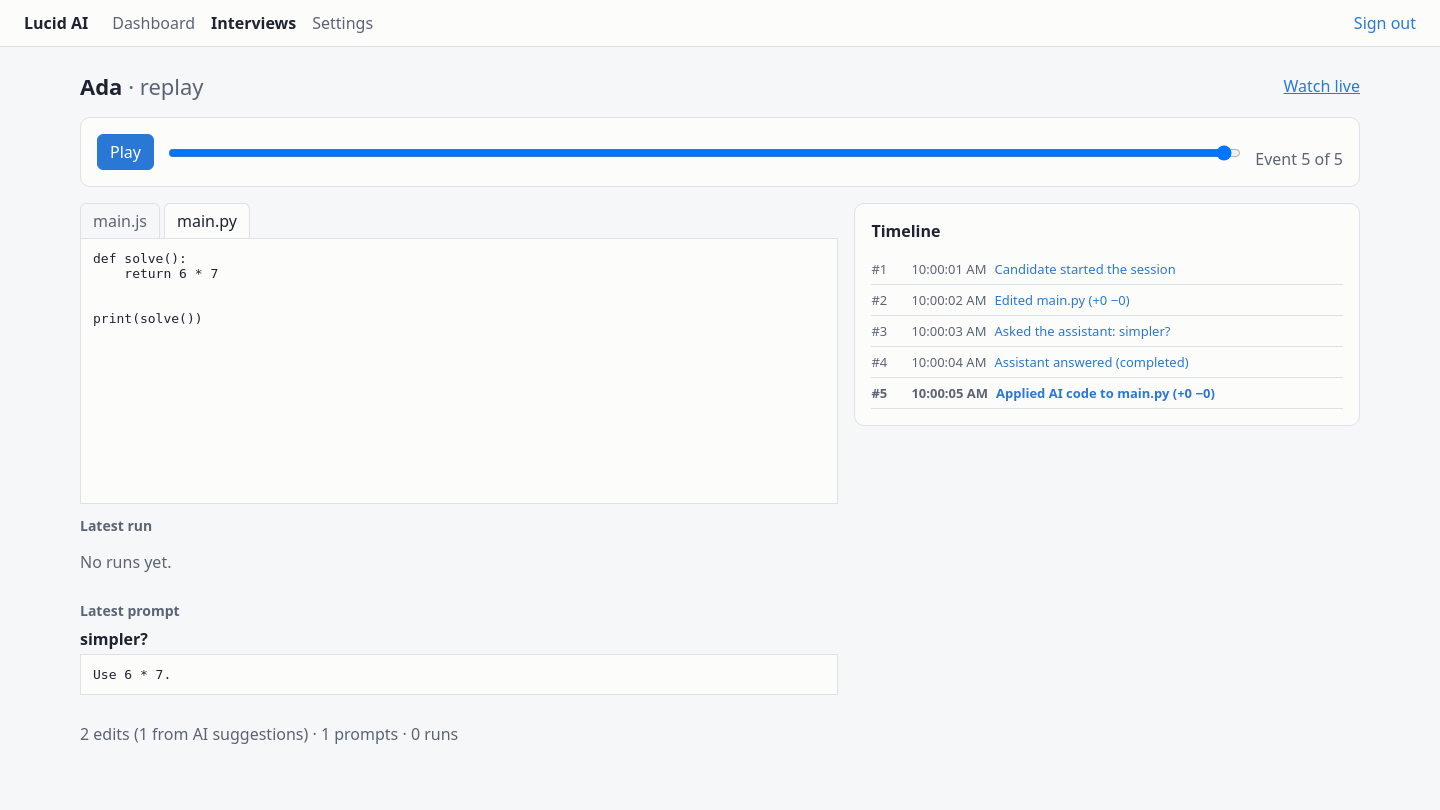
Test: replay › opens at the end and scrubs back through the session
The image size is (1440, 810).
Expected: the text with test id "position" reads "Event 5 of 5", 1255,148 -> 1343,170
Expected: the element with test id "code" shows "return 6 * 7", 93,251 -> 218,326
Set the slider named "Replay position" to "1" at (440, 153), box 168,138 -> 1241,168
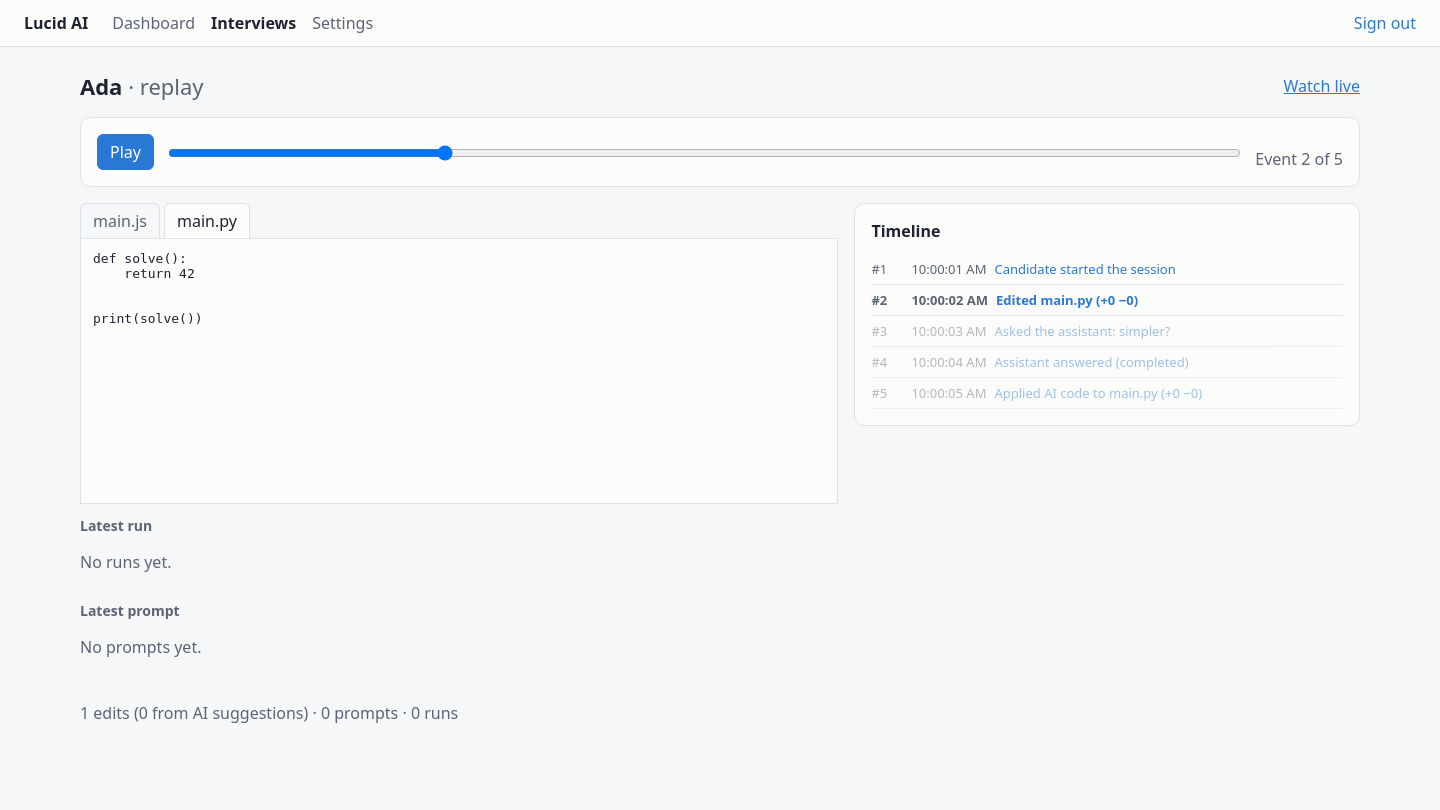
Expected: the text with test id "position" reads "Event 2 of 5", 1255,148 -> 1343,170
Expected: the element with test id "code" shows "return 42", 93,251 -> 203,326
Expected: the text with test id "prompt" is gone
